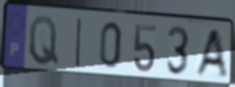0: (98, 20, 124, 72)
3: (165, 25, 192, 77)
5: (133, 22, 159, 74)
A: (192, 27, 229, 78)
I: (73, 16, 84, 70)
Q: (28, 14, 60, 68)
